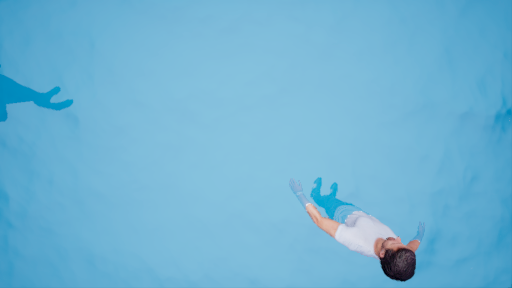person: (289, 178, 435, 282)
